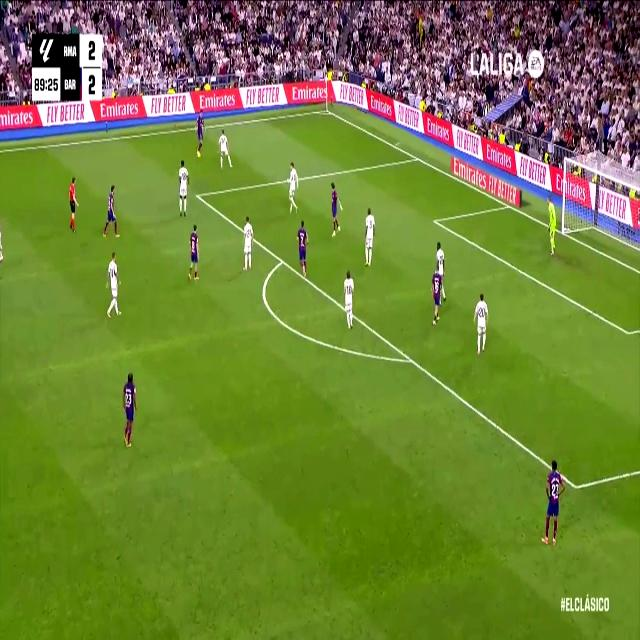bigarea_bottom_inner: (570, 471, 582, 501)
bigarea_top_inner: (193, 185, 202, 203)
bigarea_top_outter: (413, 150, 421, 164)
bottom_arc_area_intersection: (405, 347, 417, 370)
corner: (322, 104, 332, 116)
smallarea_bottom_inner: (623, 322, 633, 344)
smallarea_top_inner: (430, 211, 440, 230)
top_arc_area_intersection: (277, 249, 287, 271)
